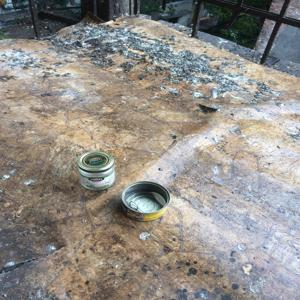glass: (76, 168, 118, 191)
metal: (117, 179, 189, 227), (73, 146, 121, 173)
